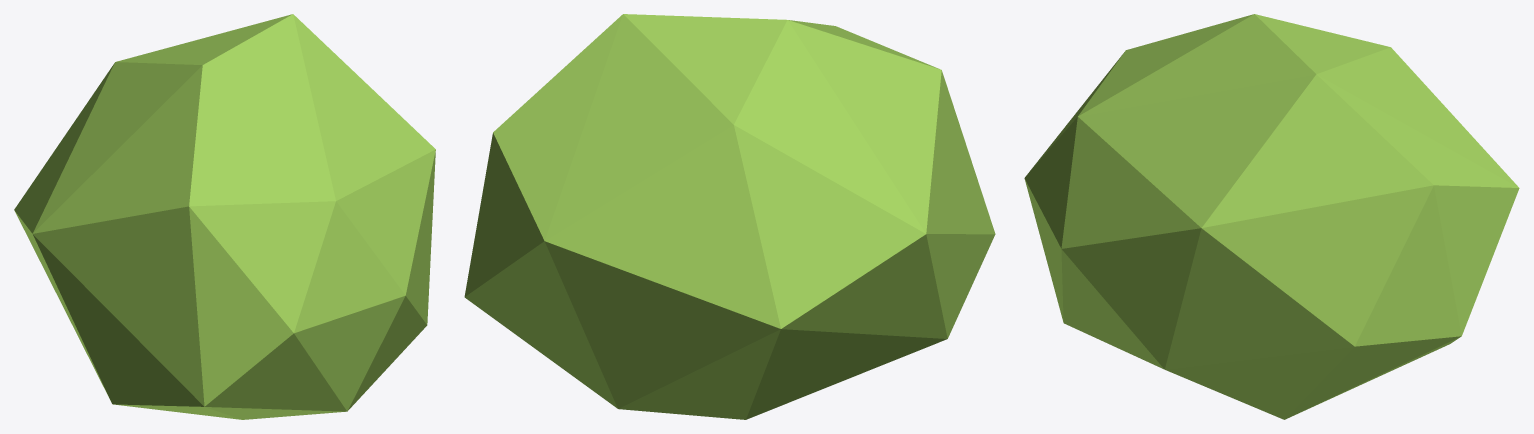
The model's file is Bush02.fbx.
3 views of the same model, side by side, from view 1: azimuth 30°, elevation 25°; view 2: azimuth 150°, elevation 25°; view 3: azimuth 270°, elevation 25° (orthographic). The views are drawn at different scales.
Visible parts, largest first — view 1: Bush02.001; view 2: Bush02.001; view 3: Bush02.001.
Boxes of the visible parts, x1,y1,x2,y2 form: Bush02.001: (14,14,435,419); Bush02.001: (464,14,995,419); Bush02.001: (1024,14,1519,419).
Bounding box in the file's own units: 136 × 119 × 152.
